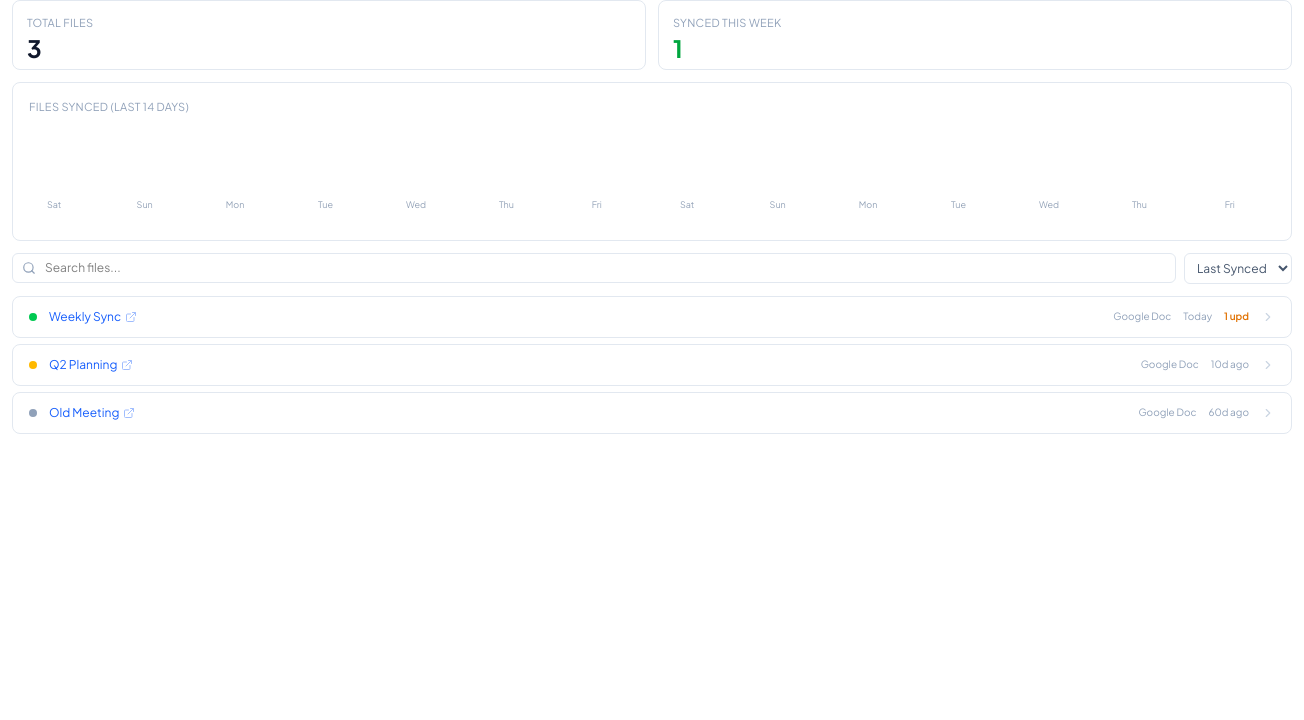
Test: FileExplorer › toggles expanded detail on row click
Click the text "Weekly Sync".
click(652, 316)  # box [12,296,1292,338]
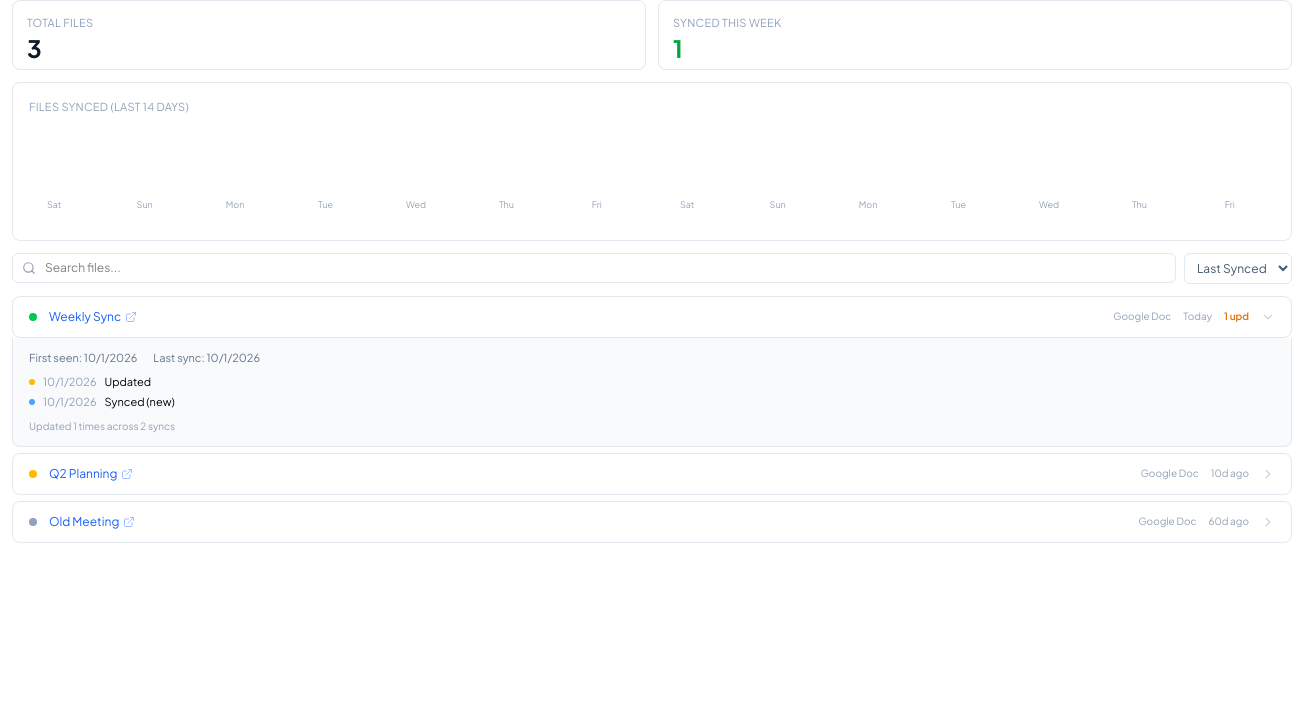
expect the text "Synced (new)" is shown: met, box [104,394,175,410]
Click the text "Weekly Sync".
click(652, 316)  # box [12,296,1292,338]
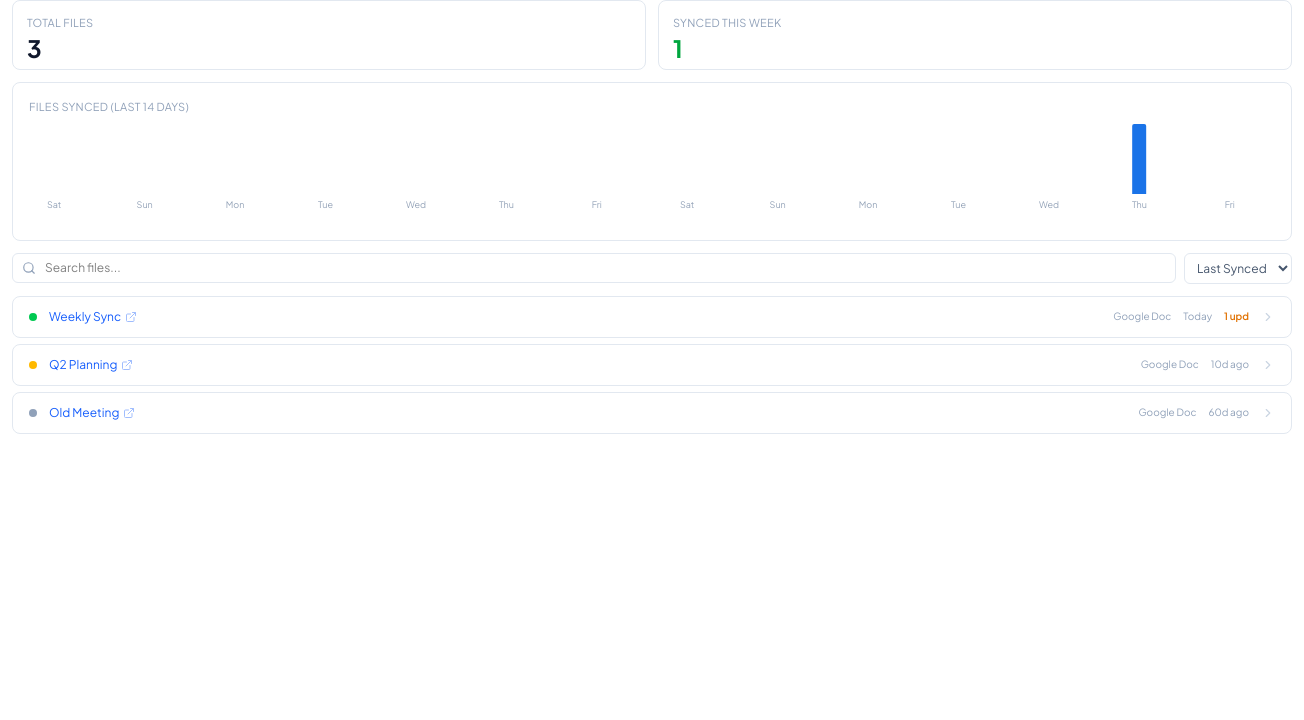
expect the text "Synced (new)" is gone: met
